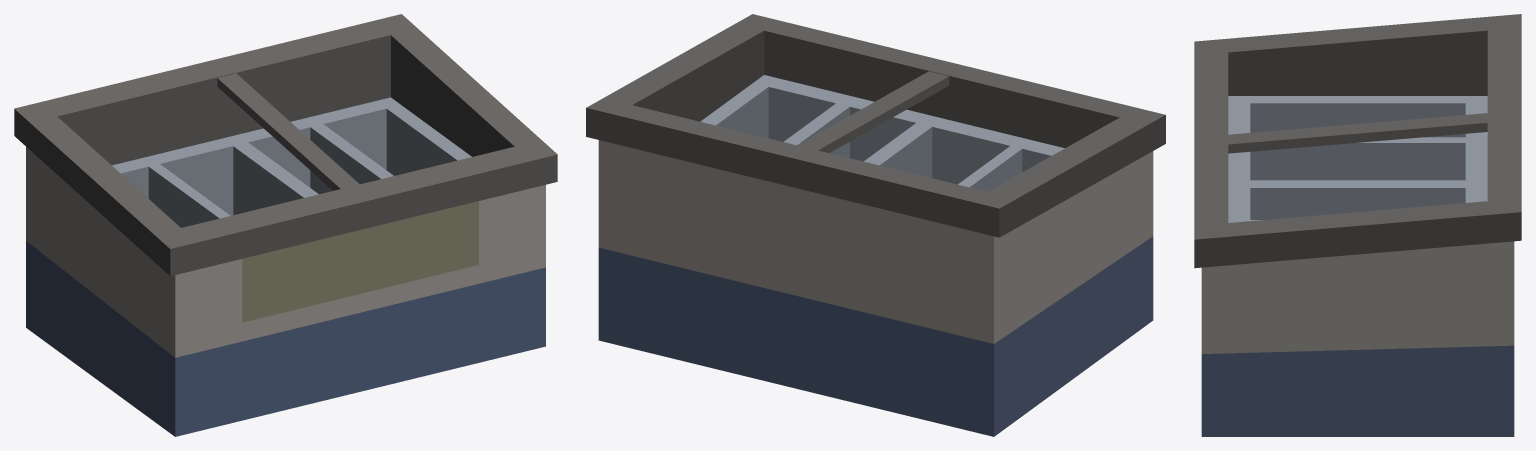
The model's file is AI_Prop_Freezer.fbx.
3 views of the same model, side by side, from view 1: azimuth 30°, elevation 25°; view 2: azimuth 150°, elevation 25°; view 3: azimuth 270°, elevation 25° (orthographic). The views are drawn at different scales.
Visible parts, largest first — view 1: AI_Prop_Freezer; view 2: AI_Prop_Freezer; view 3: AI_Prop_Freezer.
Part boxes in pixels (<box>): AI_Prop_Freezer: <box>14,14,557,436</box>; AI_Prop_Freezer: <box>586,14,1165,436</box>; AI_Prop_Freezer: <box>1194,14,1521,436</box>.
Size of the model in its own units: 3.03 by 1.63 by 2.11.
